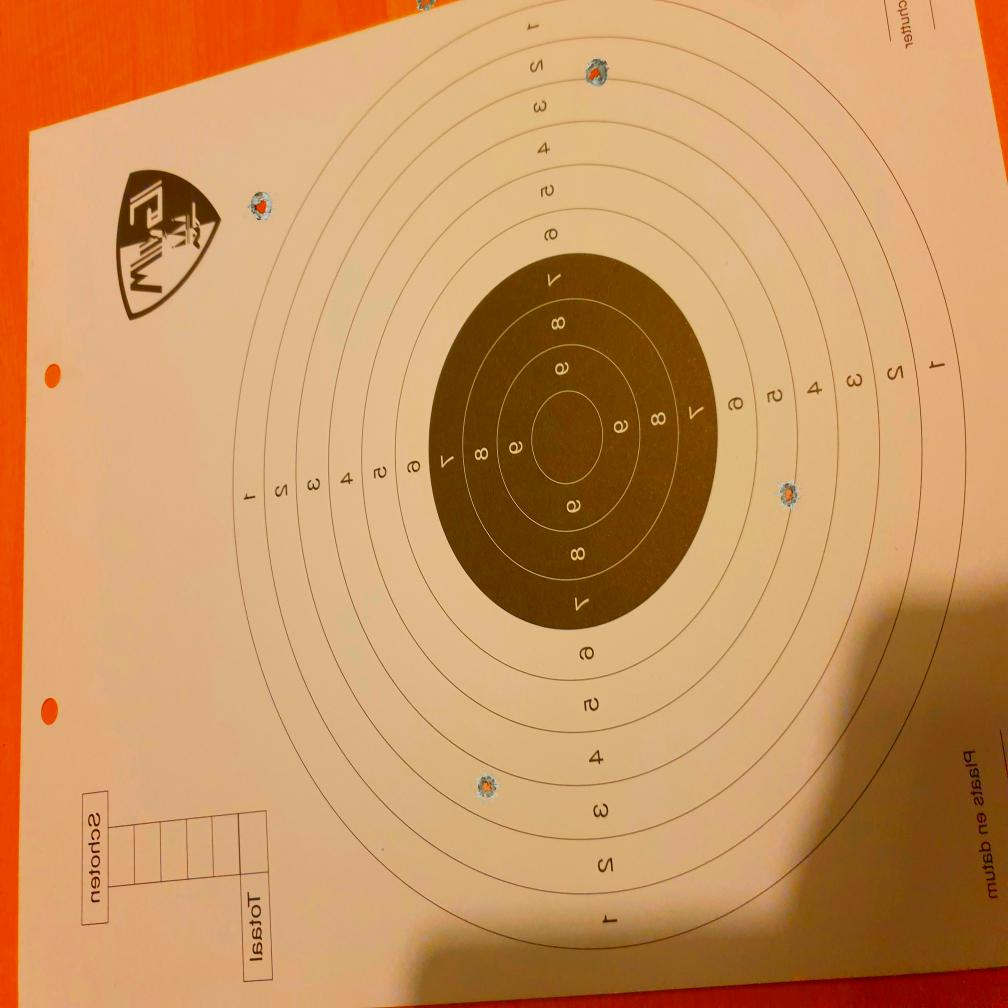0: (247, 190, 272, 223)
3: (474, 770, 500, 804), (585, 57, 610, 88)
5: (776, 478, 802, 512)
Target: (231, 0, 970, 951)
black_contour: (430, 253, 717, 631)
